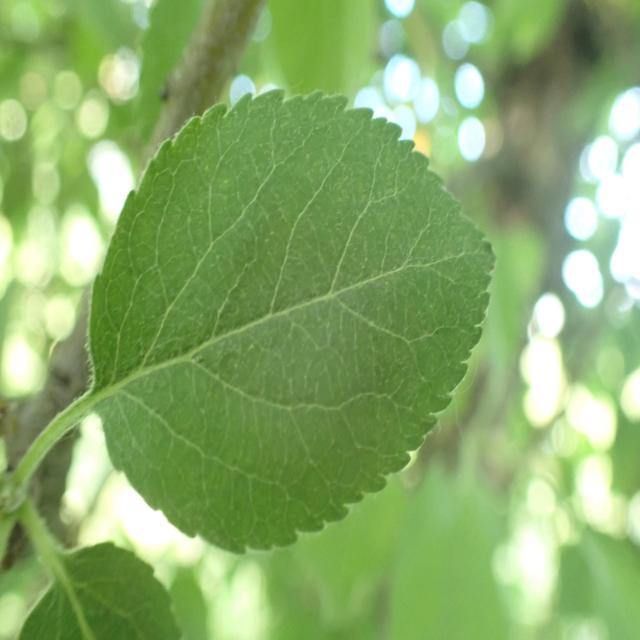healthy: (86, 86, 498, 554), (18, 540, 182, 640)
